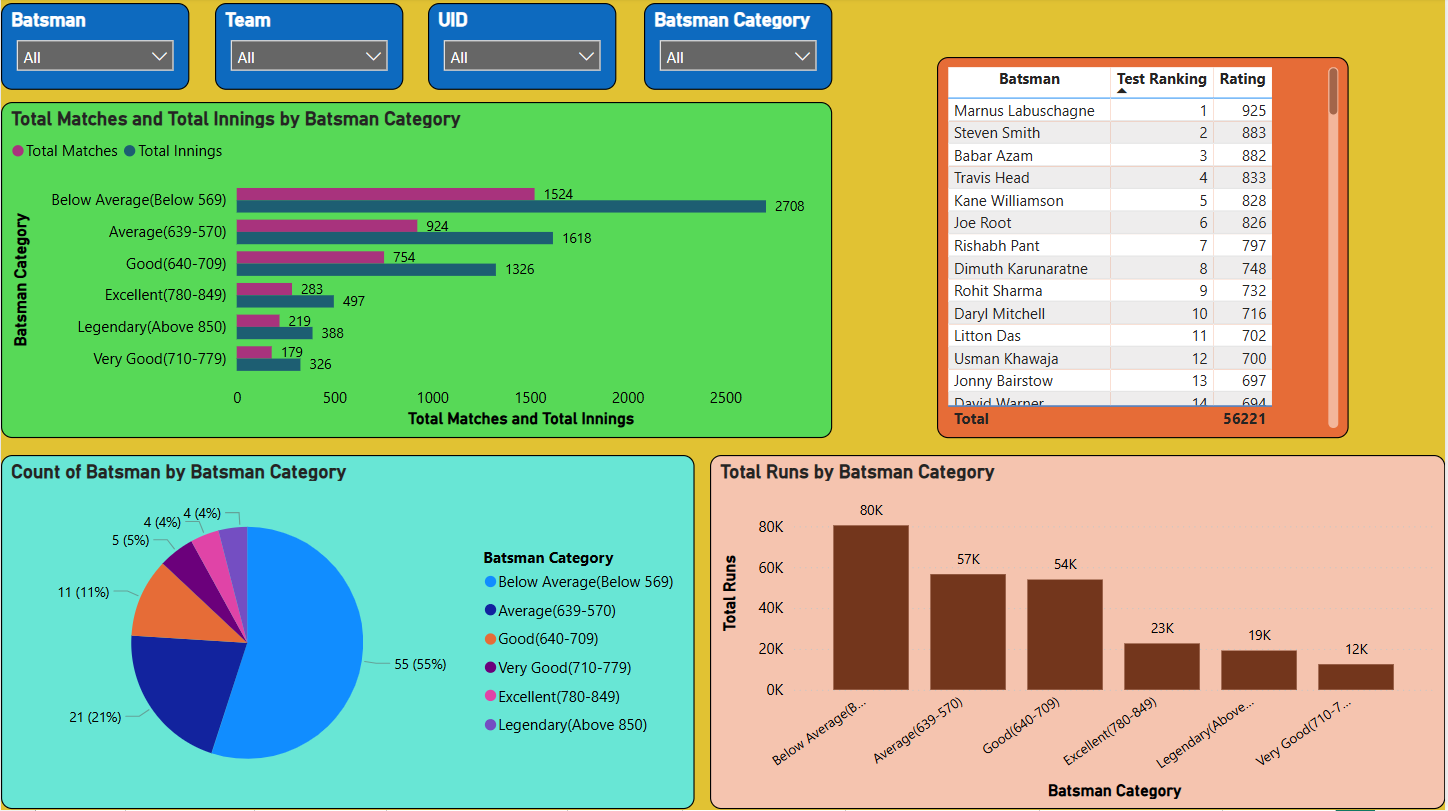

This screenshot's page, from the dashboard's own definition file:
{"tool":"powerbi","page":{"name":"Category Analysis by Rating","canvas":[1280,720],"ordinal":6},"visuals":[{"type":"pieChart","fields":{"Category":["top100batsman.Batsman Category"],"Y":["CountNonNull(top100batsman.batsman)"]},"box":[0,405.6,614.7,314.2],"z":0},{"type":"tableEx","fields":{"Values":["top100batsman.batsman","top100batsman.test_ranking ","Sum(top100batsman.rating)"]},"box":[829.7,52.5,364.7,337.5],"z":1000},{"type":"clusteredBarChart","fields":{"Category":["top100batsman.Batsman Category"],"Y":["Sum(top100batsman.matches)","Sum(top100batsman.innings)"]},"box":[0,92.4,737.3,297.6],"z":2000},{"type":"slicer","title":"Team","fields":{"Values":["top100batsman.team"]},"box":[189.7,4.9,167.3,76.8],"z":3000},{"type":"slicer","title":"Batsman","fields":{"Values":["top100batsman.batsman"]},"box":[0,4.9,167.3,76.8],"z":4000},{"type":"slicer","title":"UID","fields":{"Values":["top100batsman.UID"]},"box":[378.4,4.9,167.3,76.8],"z":5000},{"type":"slicer","title":"Batsman Category","fields":{"Values":["top100batsman.Batsman Category"]},"box":[570,4.9,167.3,76.8],"z":6000},{"type":"columnChart","fields":{"Category":["top100batsman.Batsman Category"],"Y":["Sum(top100batsman.runs)"]},"box":[628.3,405.6,651.7,314.2],"z":7000}]}

Visuals, with their boxes in screenshot pixels (x1, y1, x2, y2), scaled from the page's 1280x720 canvas onto the 1448x811 screenshot:
pieChart - top100batsman.Batsman Category x CountNonNull(top100batsman.batsman): bbox(0, 457, 695, 810)
tableEx - top100batsman.batsman x top100batsman.test_ranking : bbox(939, 59, 1351, 439)
clusteredBarChart - top100batsman.Batsman Category x Sum(top100batsman.matches): bbox(0, 104, 834, 439)
"Team" slicer: bbox(215, 6, 404, 92)
"Batsman" slicer: bbox(0, 6, 189, 92)
"UID" slicer: bbox(428, 6, 617, 92)
"Batsman Category" slicer: bbox(645, 6, 834, 92)
columnChart - top100batsman.Batsman Category x Sum(top100batsman.runs): bbox(711, 457, 1447, 810)
